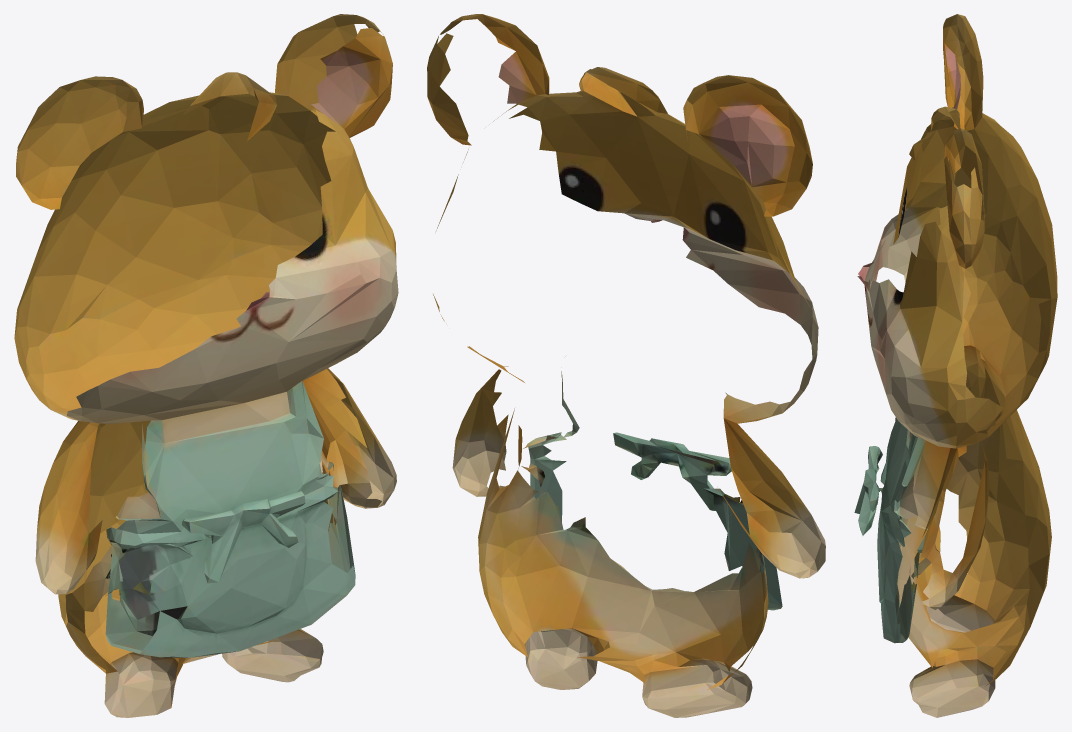
The model's file is sunny.glb.
The picture shows the model from 3 angles, left to right: view 1: azimuth 30°, elevation 25°; view 2: azimuth 150°, elevation 25°; view 3: azimuth 270°, elevation 25°; orthographic projection. The views are drawn at different scales.
Parts seen in each view (by area): view 1: geometry_0; view 2: geometry_0; view 3: geometry_0.
Part boxes in pixels (bbox=[...]): geometry_0: bbox=[14, 14, 398, 717]; geometry_0: bbox=[427, 14, 825, 717]; geometry_0: bbox=[854, 14, 1057, 717].
Bounding box in the file's own units: 0.62 × 1 × 0.3067.
1 material, 1 textured.
